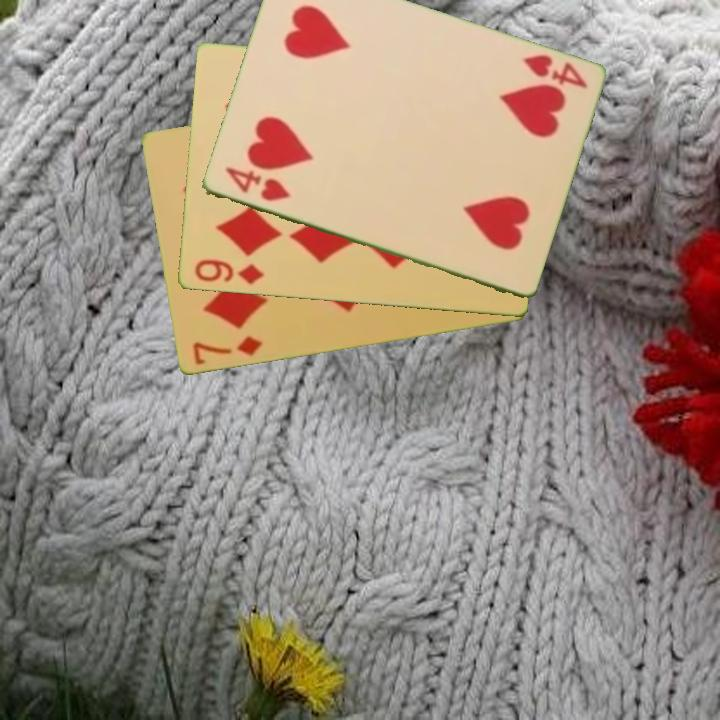4h: (221, 163, 292, 205), (519, 51, 590, 92)
7d: (189, 333, 265, 369)
9d: (190, 256, 267, 287)
